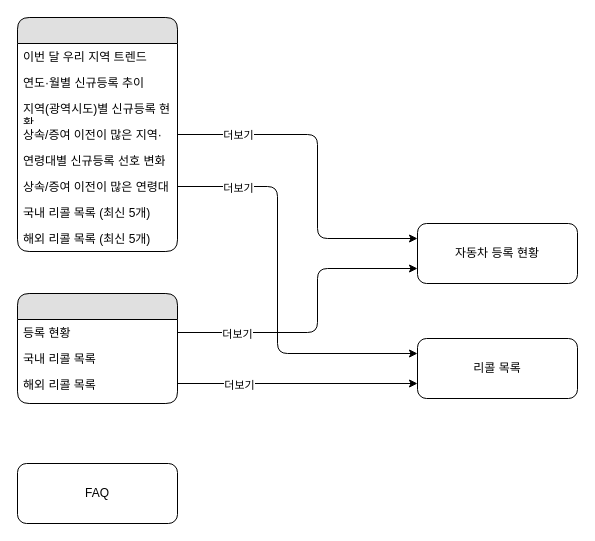
This 595x541 diagram has some shape labels left out. Here are the shapes that lost their labels. From the top down, the box of each, then its label:
(16, 16, 178, 252): Dashboard
(16, 292, 178, 404): 자동차 정보
